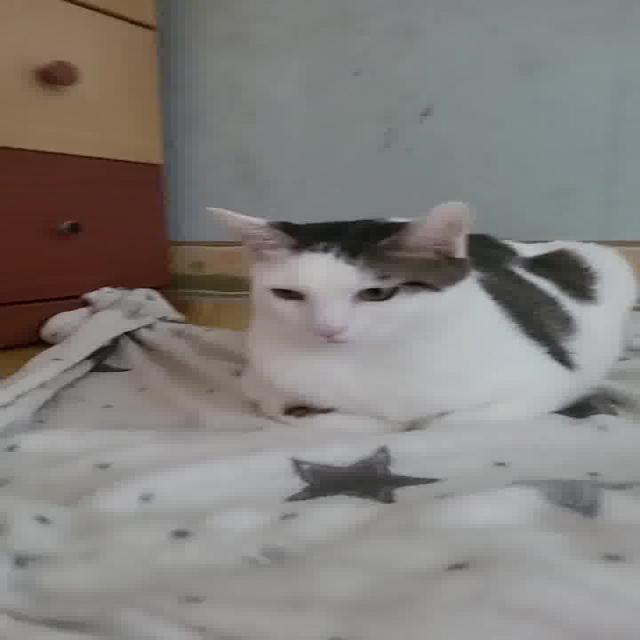cat: (198, 200, 639, 432)
